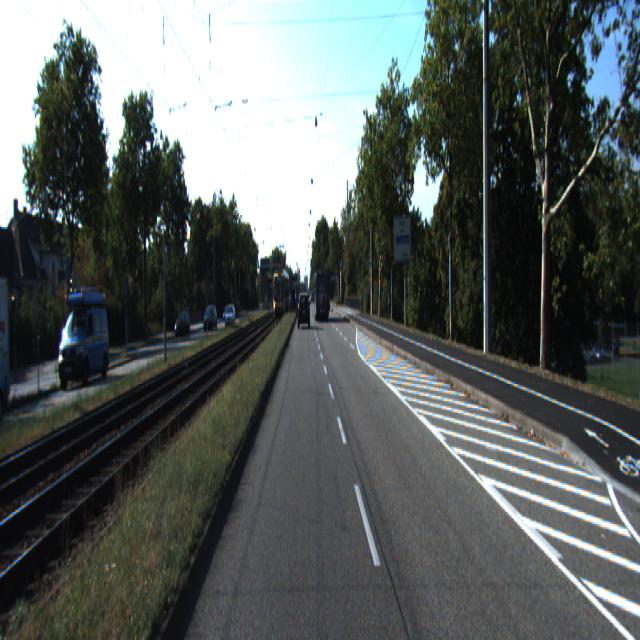Car: (56, 303, 111, 393), (314, 272, 329, 322), (298, 294, 310, 330), (224, 305, 236, 330)
